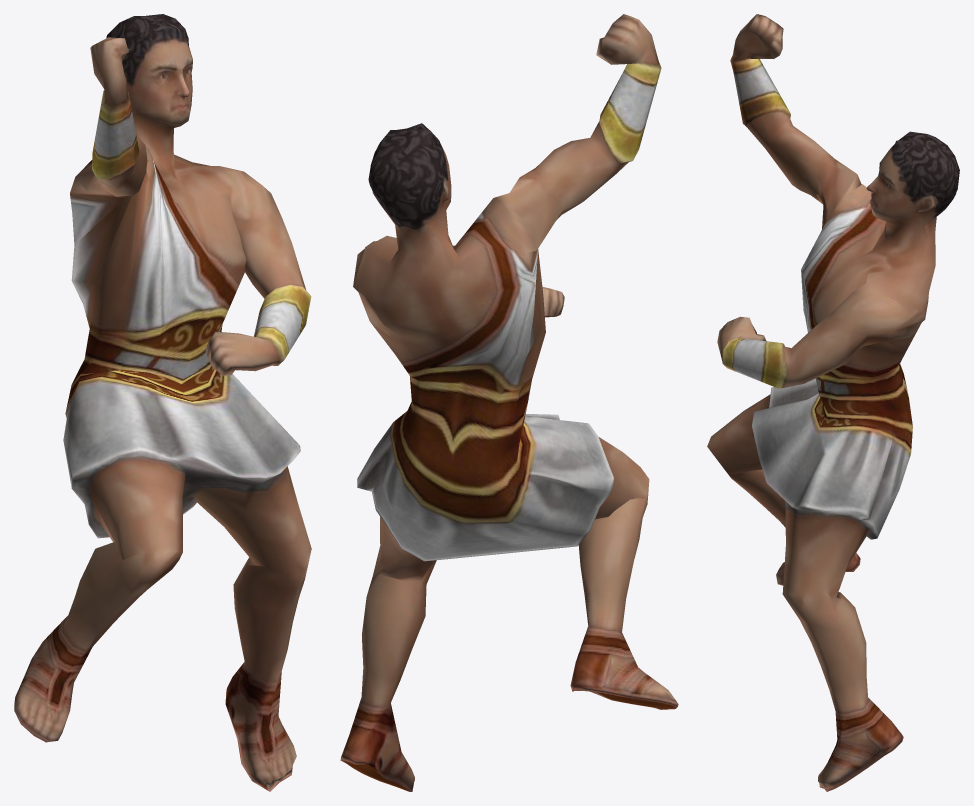
The model's file is rider-ranged-base.glb.
The picture shows the model from 3 angles, left to right: view 1: azimuth 30°, elevation 25°; view 2: azimuth 150°, elevation 25°; view 3: azimuth 270°, elevation 25°; orthographic projection. The views are drawn at different scales.
Bounding box in the file's own units: 0.8851 × 2.34 × 0.7742.
Materials: 1 (1 with a texture image).
